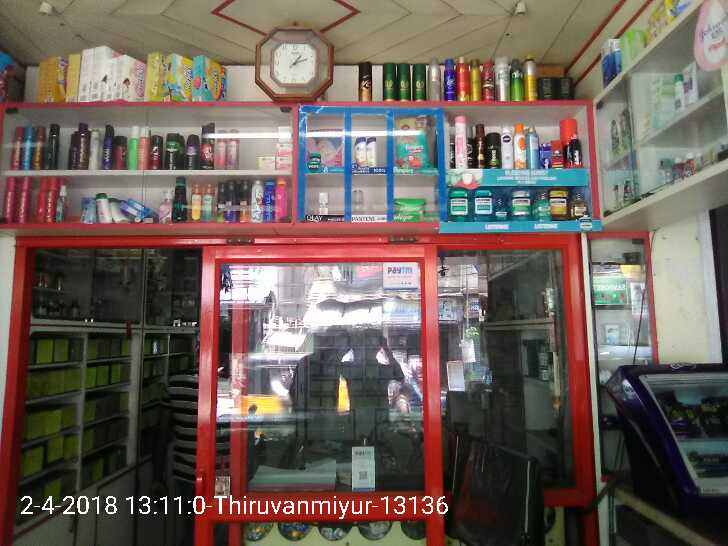vicks: (308, 150, 325, 163)
